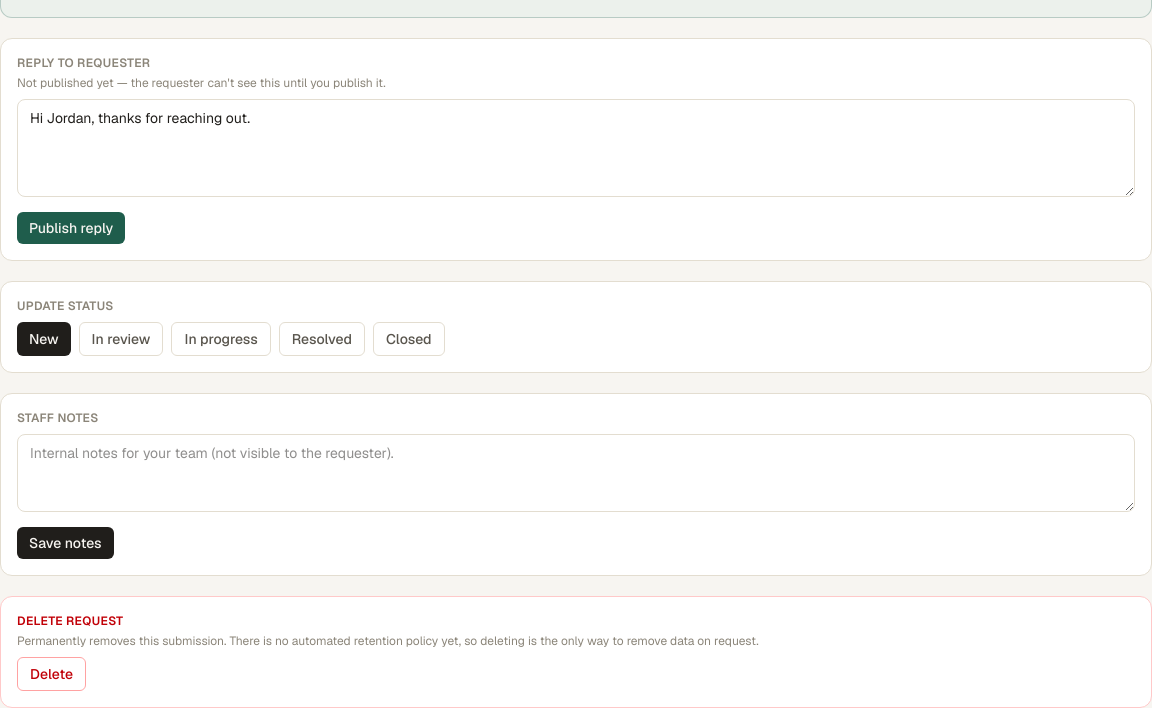
Test: SubmissionDetail › saves staff notes and shows a confirmation
(page scrolled)
Type "Called back, left voicemail." into the text box with placeholder "Internal notes".
click(576, 473); type("Called back, left voicemail.")  # box [17,434,1135,512]
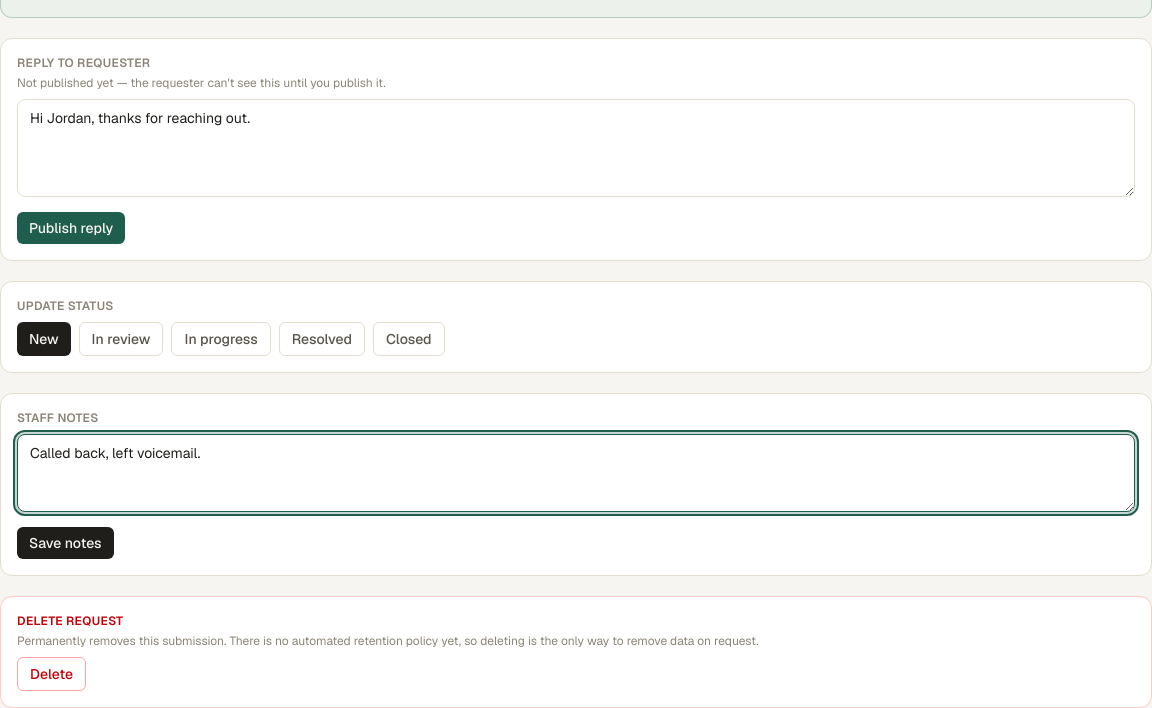
Click the button "Save notes".
click(65, 543)  # box [17,527,114,559]
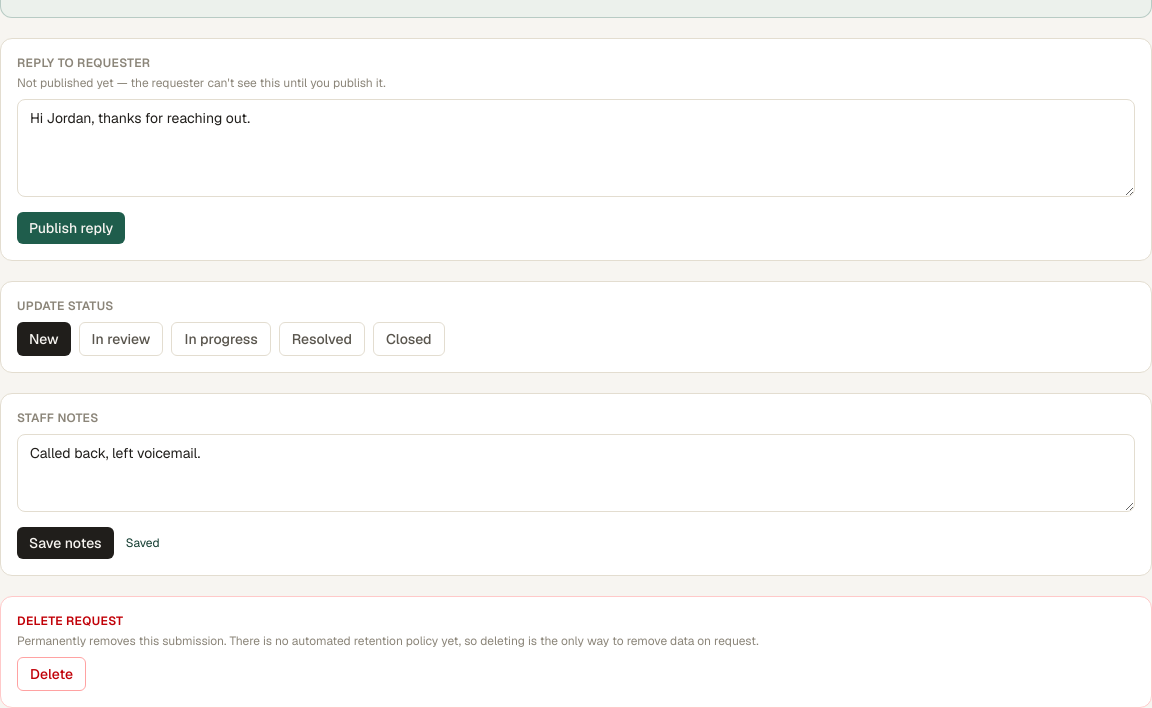
Now the text "Saved" is shown, box [126,535,160,551]
